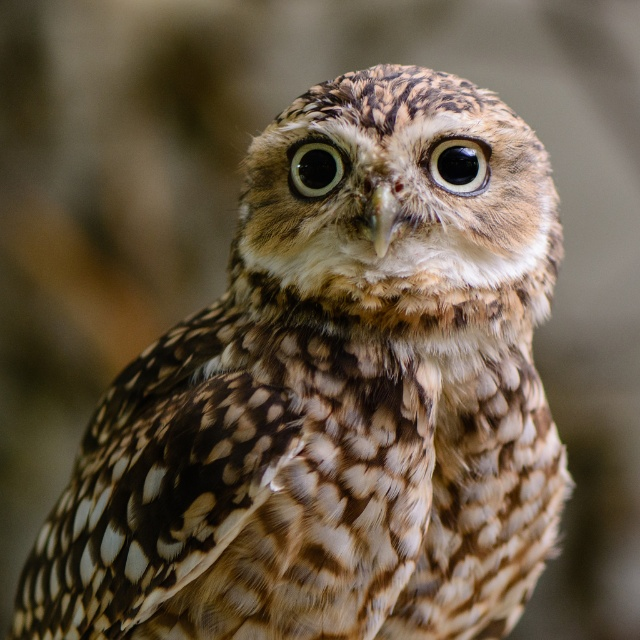Owl: (17, 60, 581, 640)
